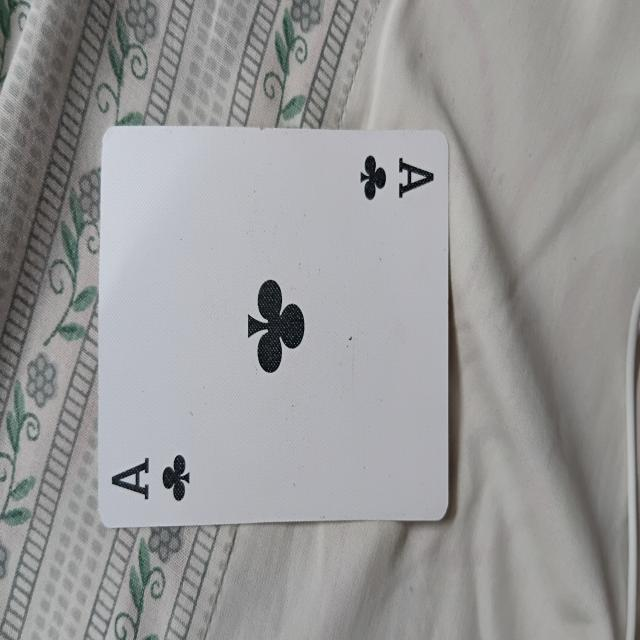AC: (98, 123, 450, 524)
